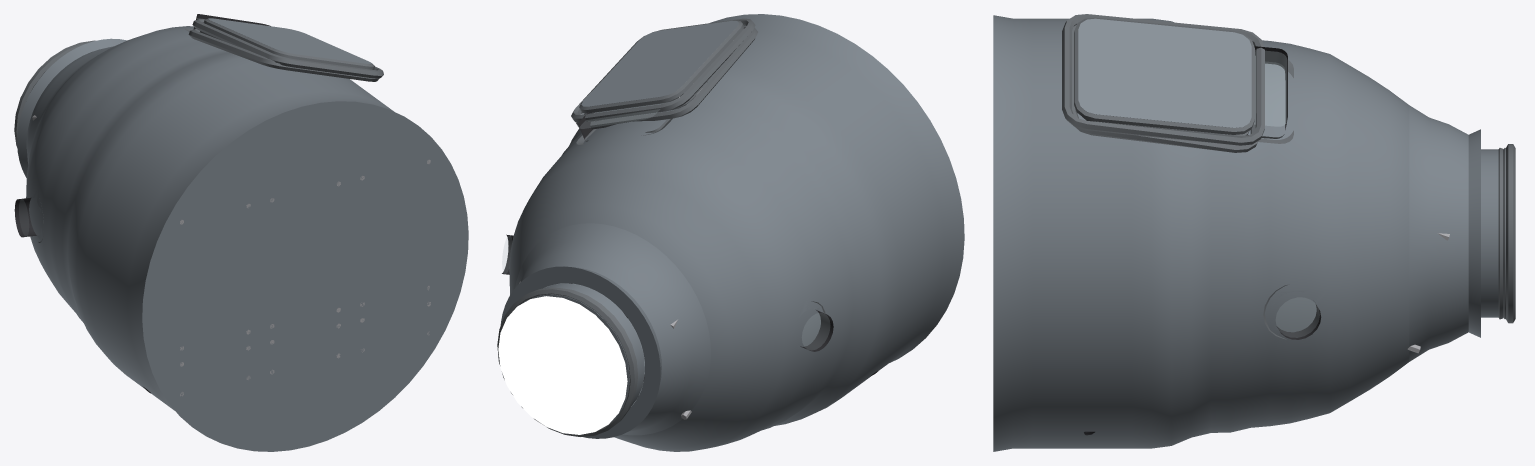
The model's file is soyuz.glb.
3 renders of one model, left to right at view 1: azimuth 30°, elevation 25°; view 2: azimuth 150°, elevation 25°; view 3: azimuth 270°, elevation 25°, orthographic. The views are drawn at different scales.
Parts seen in each view (by area): view 1: shell_cupola, door_inward, shell_panoramic, hatchframe_inward, hatchframe_side, hatchframe_top, frame_small0; view 2: shell_cupola, shell_panoramic, plug_top, door_inward, hatchframe_inward, hatchframe_top, docking, hatchframe_side, glass_small0, frame_small0, glass_panoramic0, dock_cap; view 3: shell_cupola, door_inward, shell_panoramic, hatchframe_inward, docking, hatchframe_top, glass_panoramic0, hatchframe_side, glass_small1, frame_panoramic0, shell_small, frame_small1.
Boxes of the visible parts, x1,y1,x2,y2 form: shell_cupola: [26, 26, 468, 451]; door_inward: [203, 18, 374, 69]; shell_panoramic: [17, 36, 269, 177]; hatchframe_inward: [192, 19, 383, 78]; hatchframe_side: [188, 29, 378, 81]; hatchframe_top: [14, 40, 95, 147]; frame_small0: [14, 197, 43, 242]; shell_cupola: [509, 14, 964, 451]; shell_panoramic: [500, 80, 719, 438]; plug_top: [498, 296, 627, 434]; door_inward: [579, 20, 743, 113]; hatchframe_inward: [571, 18, 755, 122]; hatchframe_top: [497, 287, 637, 436]; docking: [540, 283, 644, 414]; hatchframe_side: [576, 25, 757, 129]; glass_small0: [802, 313, 829, 349]; frame_small0: [800, 301, 833, 351]; glass_panoramic0: [580, 109, 659, 128]; dock_cap: [522, 294, 629, 426]; shell_cupola: [993, 15, 1409, 451]; door_inward: [1074, 17, 1254, 134]; shell_panoramic: [1257, 63, 1480, 361]; hatchframe_inward: [1062, 14, 1264, 145]; docking: [1481, 148, 1505, 319]; hatchframe_top: [1506, 144, 1515, 323]; glass_panoramic0: [1254, 50, 1286, 125]; hatchframe_side: [1072, 24, 1257, 152]; glass_small1: [1276, 298, 1319, 337]; frame_panoramic0: [1248, 46, 1293, 143]; shell_small: [1270, 288, 1329, 348]; frame_small1: [1263, 285, 1321, 339].
Size of the model in its own units: 1.77 by 1.88 by 2.13.
